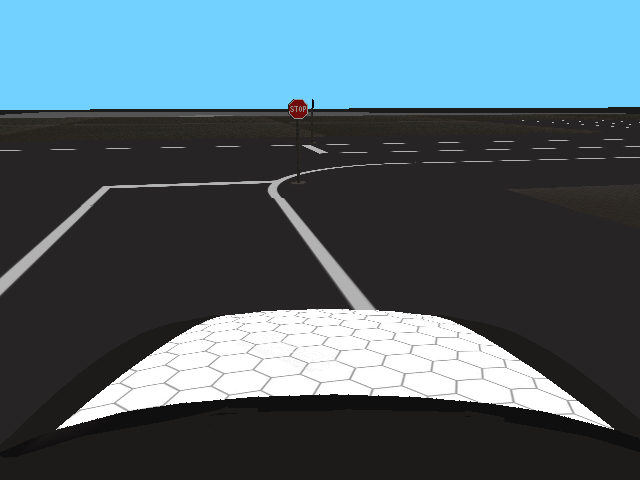stop: (288, 99, 308, 119)
